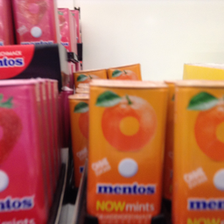candy: (87, 79, 168, 224), (172, 81, 223, 224), (14, 1, 58, 45)
